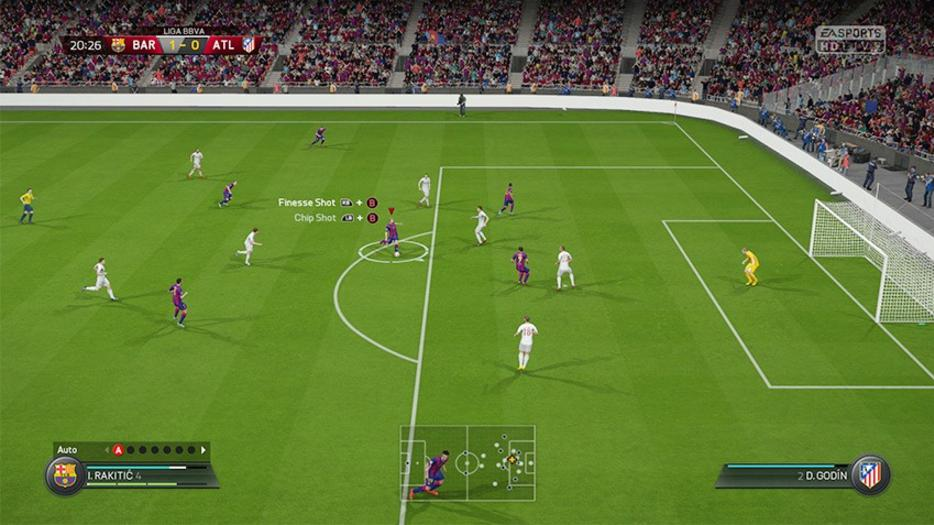ball: (394, 249, 399, 258)
goal: (813, 194, 930, 331)
player: (83, 254, 119, 302), (163, 274, 193, 328), (553, 243, 581, 288), (236, 225, 264, 267), (514, 313, 533, 370), (512, 242, 534, 288), (739, 246, 761, 286), (413, 171, 434, 209), (379, 218, 402, 250), (187, 144, 207, 180), (472, 207, 489, 246), (221, 176, 236, 209), (502, 181, 514, 217), (312, 126, 327, 148)
